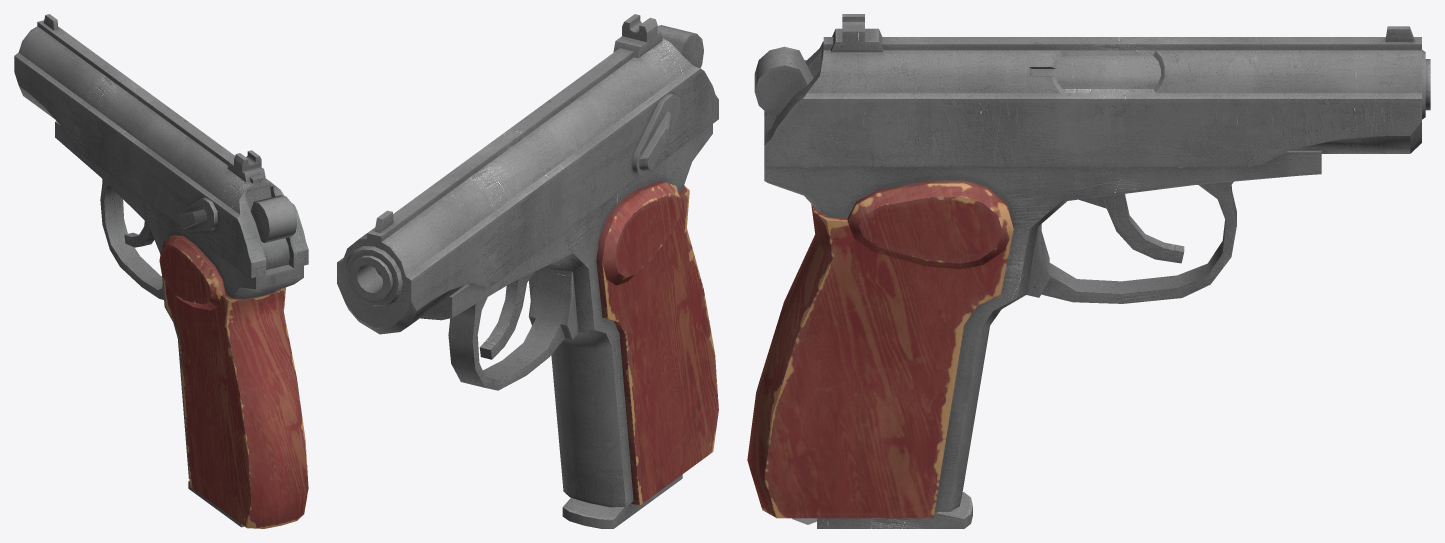
The model's file is IG_Gun_PM.fbx.
3 views of the same model, side by side, from view 1: azimuth 30°, elevation 25°; view 2: azimuth 150°, elevation 25°; view 3: azimuth 270°, elevation 25° (orthographic). The views are drawn at different scales.
Parts seen in each view (by area): view 1: Pfb_WPN_PM; view 2: Pfb_WPN_PM; view 3: Pfb_WPN_PM.
Part boxes in pixels (box(x1,y1,x2,y2)): Pfb_WPN_PM: box(14, 14, 308, 528); Pfb_WPN_PM: box(337, 14, 718, 528); Pfb_WPN_PM: box(747, 14, 1430, 528).
Size of the model in its own units: 0.0649 by 0.3074 by 0.3836.
